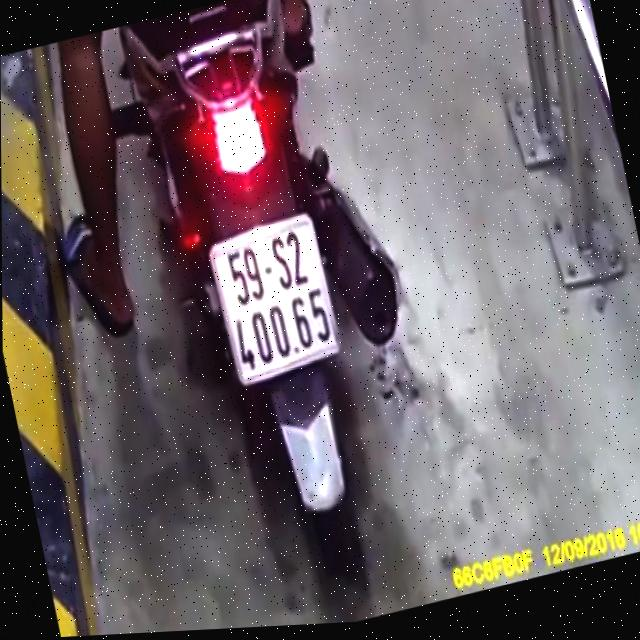motorcycle: (90, 0, 455, 613)
plate: (194, 204, 347, 394)
